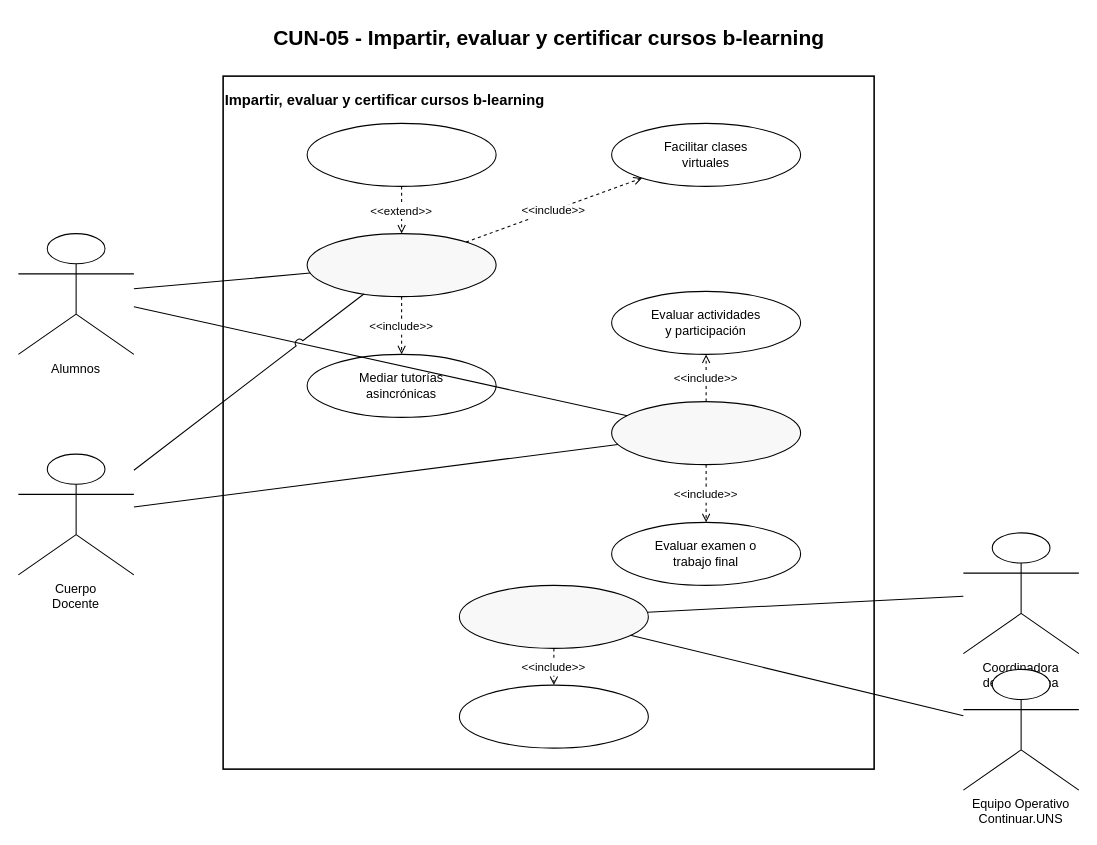
The diagram is 1097 pixels wide and 845 high, and some of its shapes have lost their labels. The centre of each missing label's shape, as x and y in pixels:
Acreditar curso aprobado: the point at 553,616
Desarrollar actividades de aprendizaje: the point at 401,265
Emitir certificación: the point at 553,716
Encuentro presencial inicial: the point at 401,154
Evaluar aprendizaje del alumno: the point at 706,433
